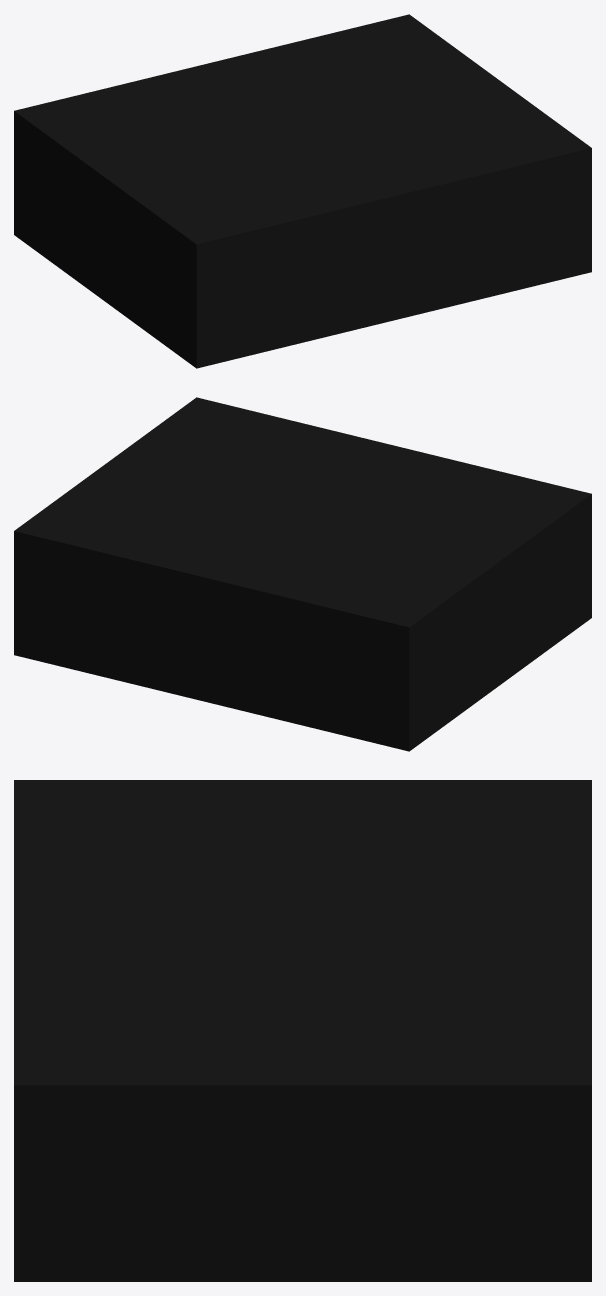
Rendered from 15_briefcase.glb.
3 renders of one model, top to bottom at view 1: azimuth 30°, elevation 25°; view 2: azimuth 150°, elevation 25°; view 3: azimuth 270°, elevation 25°, orthographic. The views are drawn at different scales.
Parts seen in each view (by area): view 1: items/15_briefcase; view 2: items/15_briefcase; view 3: items/15_briefcase.
Boxes of the visible parts, x1,y1,x2,y2 form: items/15_briefcase: (14, 14, 591, 368); items/15_briefcase: (14, 397, 591, 751); items/15_briefcase: (14, 780, 591, 1281).
Bounding box in the file's own units: 0.625 × 0.1875 × 0.5.
1 material, 1 textured.
